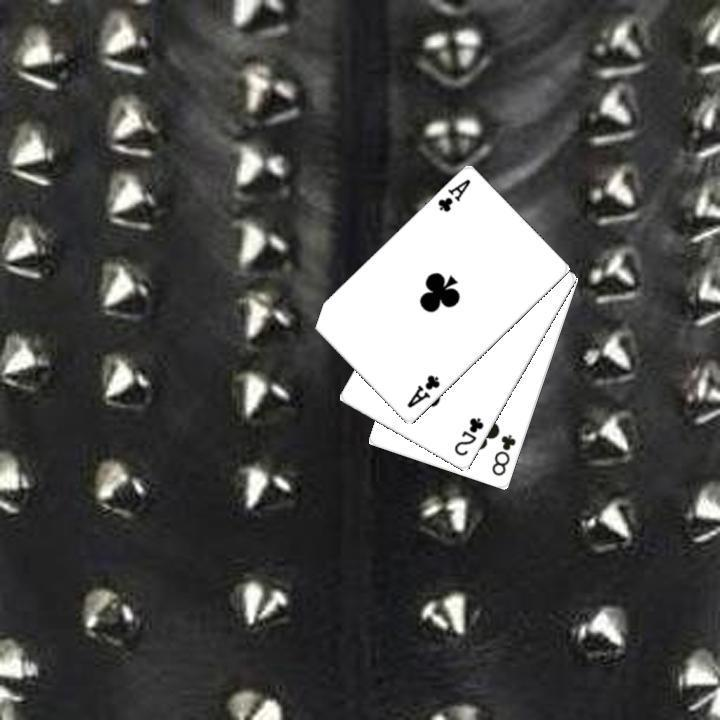2: (450, 413, 486, 458)
8: (487, 430, 518, 478)
A: (433, 175, 473, 215), (402, 371, 442, 410)
